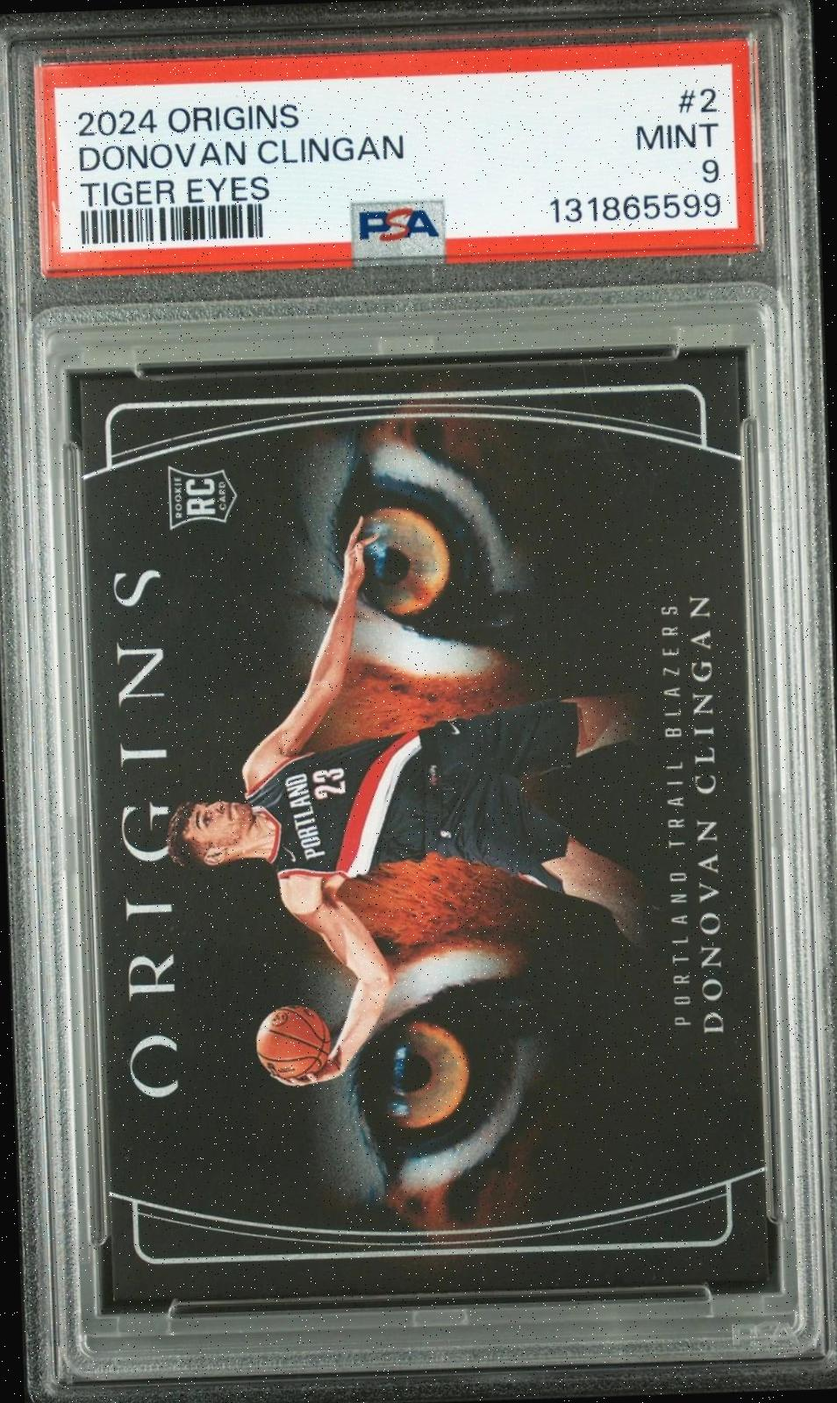card-2UtV: (79, 355, 769, 1302)
